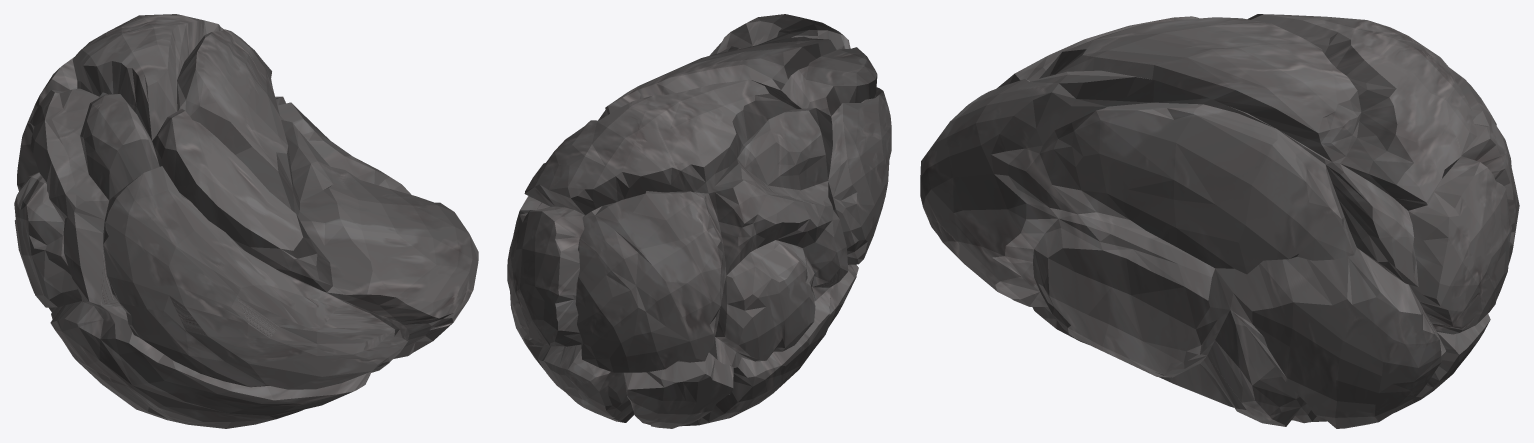
File: MOD_DeformedRock.fbx
3 renders of one model, left to right at view 1: azimuth 30°, elevation 25°; view 2: azimuth 150°, elevation 25°; view 3: azimuth 270°, elevation 25°, orthographic. The views are drawn at different scales.
Parts seen in each view (by area): view 1: Sphere29; view 2: Sphere29; view 3: Sphere29.
Boxes of the visible parts, <box> form: Sphere29: <box>14,14,478,428</box>; Sphere29: <box>507,14,891,428</box>; Sphere29: <box>920,14,1519,428</box>.
Bounding box in the file's own units: 1.71 × 2.1 × 2.98.
